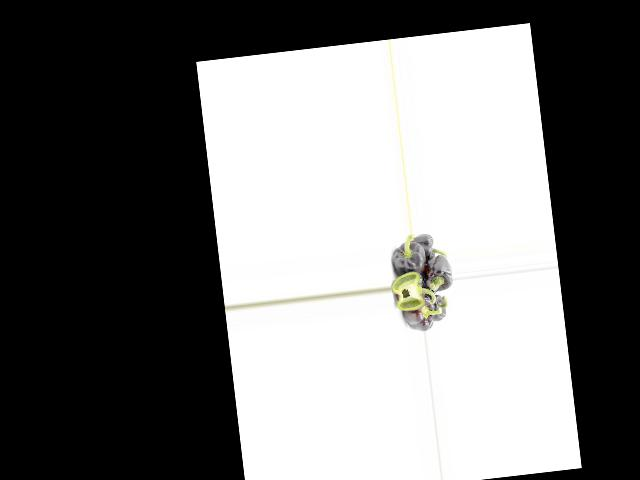bell_pepper: (402, 289, 436, 332)
